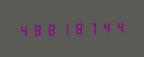eight: (45, 20, 58, 37), (73, 19, 86, 36), (31, 21, 44, 37)
four: (17, 21, 30, 38), (101, 18, 114, 35), (115, 18, 128, 35)
one: (59, 20, 72, 36)
seven: (87, 19, 100, 36)
